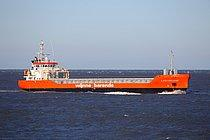Ship: (17, 36, 195, 97)
